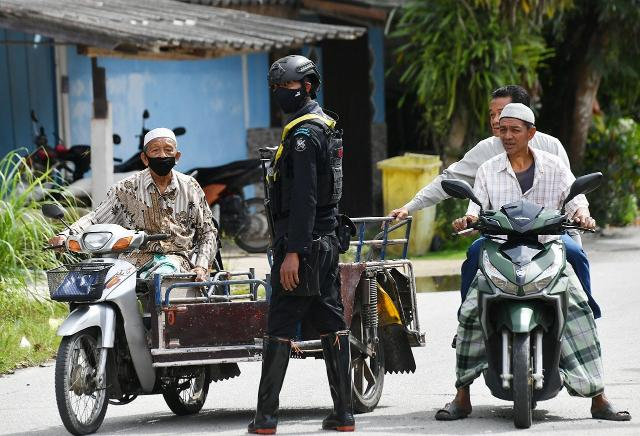motor: (440, 173, 607, 431), (43, 200, 218, 436)
non-helm: (500, 104, 537, 156), (142, 129, 182, 177)
